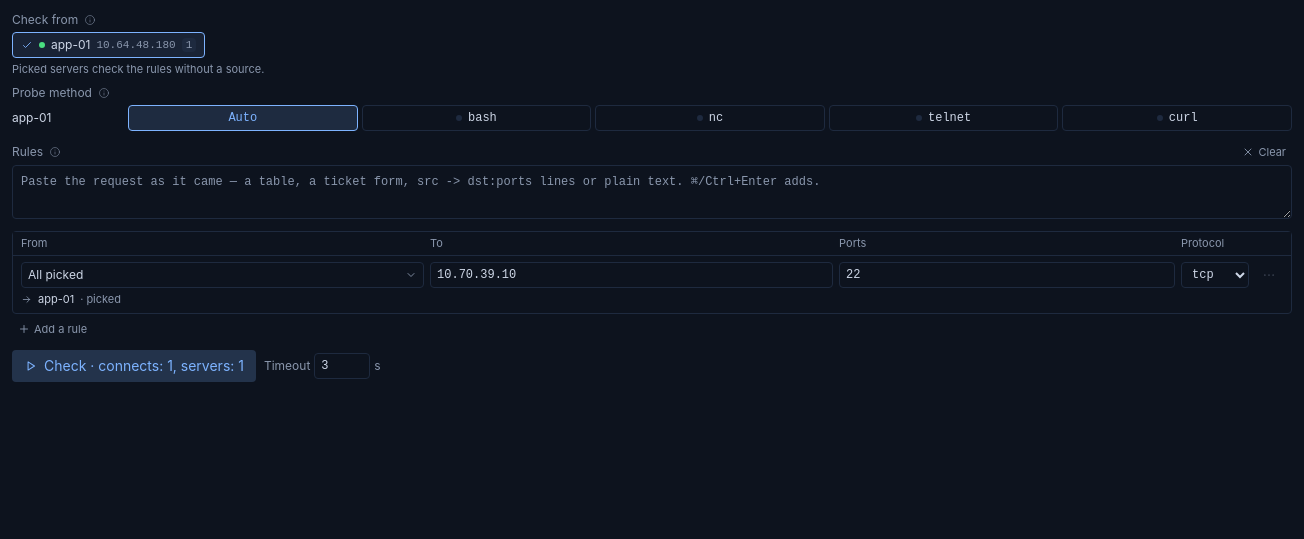
Test: UtilNetCheck › stops a run: the running server gets its stop and reads 'stopped'
This screenshot has width=1304, height=539.
Click the button with test id "netcheck-run": (134, 366) [12,350,256,382]
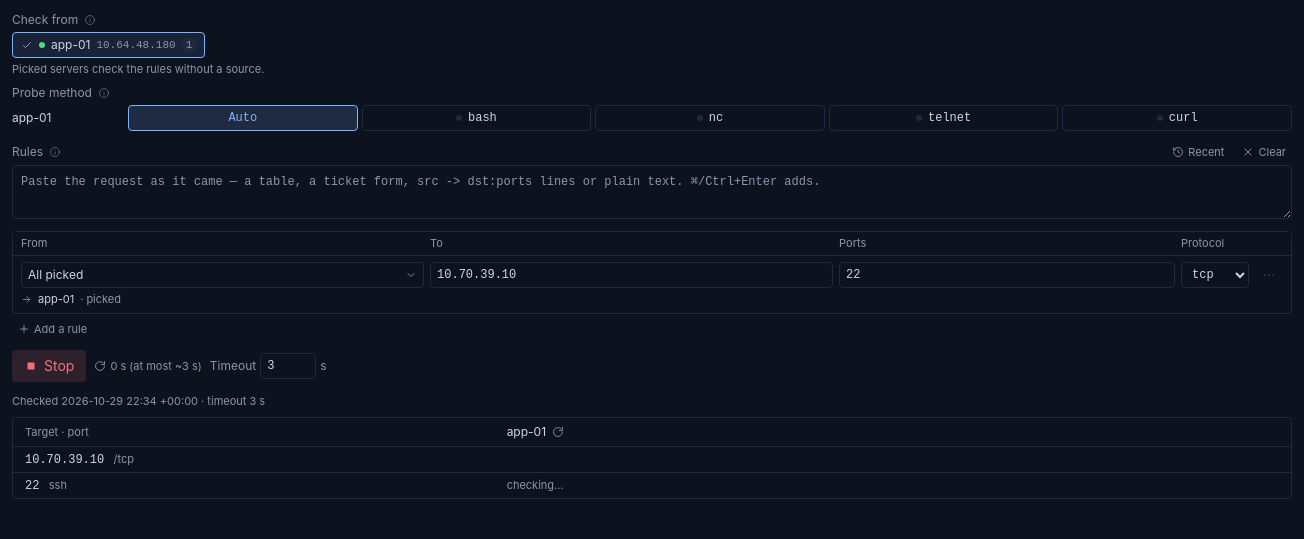
Click the button with test id "netcheck-stop": (49, 366) [12,350,86,382]
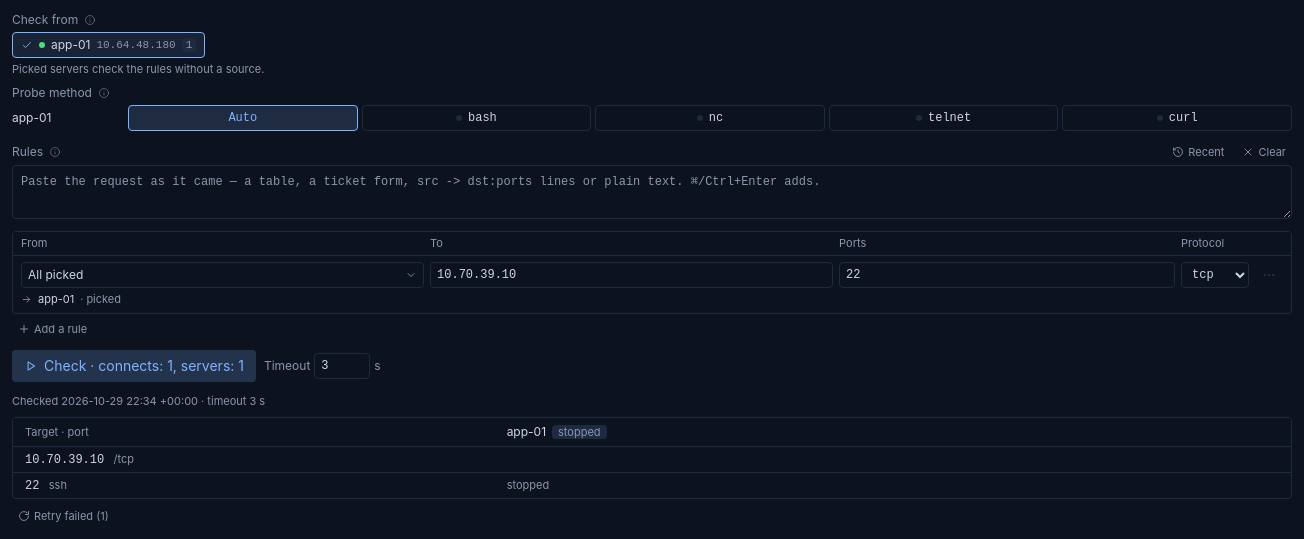
Check: the text with test id "netcheck-stopped" is shown, box [552,425,606,439]
Check: the button with test id "netcheck-run" is shown, box [12,350,256,382]
